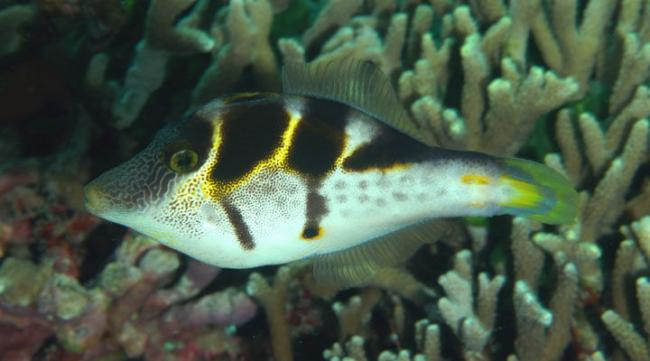fish: (84, 57, 579, 290)
